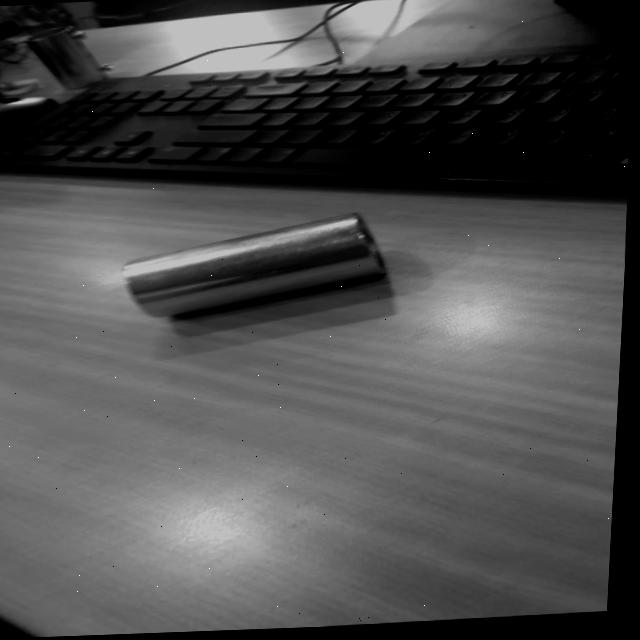Co_Lon: (119, 209, 387, 325)
